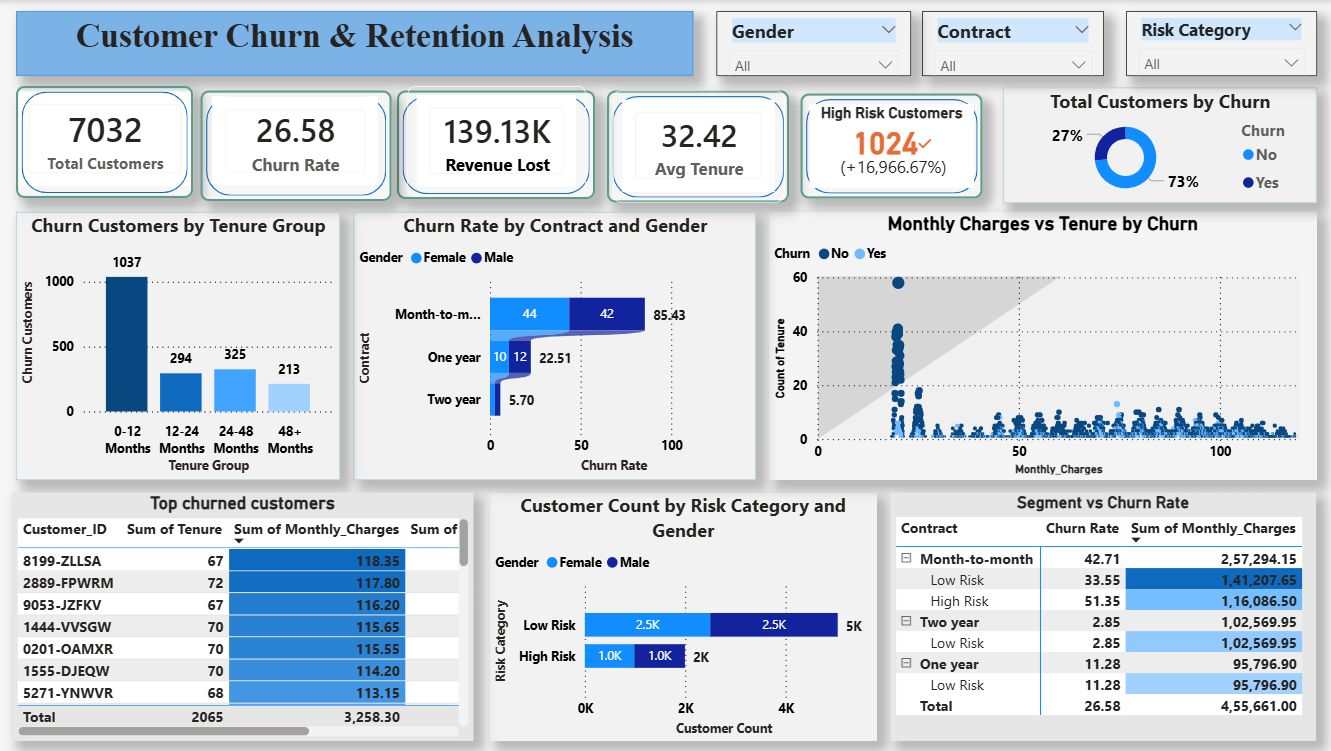

This screenshot's page, from the dashboard's own definition file:
{"tool":"powerbi","page":{"name":"Page 1","canvas":[1280,720],"ordinal":0},"visuals":[{"type":"shape","box":[20,11.7,645,61.7],"z":0},{"type":"textbox","box":[20,11.7,645,61.7],"z":1000},{"type":"cardVisual","fields":{"Data":["customers.Total Customers"]},"box":[15,82.8,180,100],"z":2000},{"type":"shape","box":[20,83.3,168.3,106.7],"z":3000},{"type":"shape","box":[383.3,86.7,188.3,103.3],"z":4000},{"type":"shape","box":[195,86.7,181.7,105],"z":5000},{"type":"shape","box":[583.3,86.7,173.3,106.7],"z":6000},{"type":"shape","box":[766.7,90,173.3,100],"z":7000},{"type":"cardVisual","fields":{"Data":["customers.Churn Rate"]},"box":[201.7,87.8,168.3,95],"z":8000},{"type":"cardVisual","fields":{"Data":["customers.Revenue Lost"]},"box":[393.3,82.8,170,105],"z":9000},{"type":"cardVisual","fields":{"Data":["customers.Avg Tenure"]},"box":[588.3,86.7,163.3,106.7],"z":10000},{"type":"slicer","fields":{"Values":["customers.Gender"]},"box":[686.7,11.7,185,61.7],"z":12000},{"type":"slicer","fields":{"Values":["customers.Contract"]},"box":[883.3,11.7,173.3,61.7],"z":13000},{"type":"donutChart","fields":{"Category":["customers.Churn"],"Y":["customers.Total Customers"]},"box":[960,85,298.3,110],"z":14000},{"type":"barChart","fields":{"Y":["customers.Churn Rate"],"Category":["customers.Contract"],"Series":["customers.Gender"]},"box":[341.7,203.3,383.3,255],"z":15000},{"type":"clusteredColumnChart","fields":{"Category":["customers.Tenure Group"],"Y":["customers.Churn Customers"]},"box":[20,203.3,308.3,255],"z":16000},{"type":"tableEx","title":"Top churned customers","fields":{"Values":["customers.Customer_ID","Sum(customers.Tenure)","Sum(customers.Monthly_Charges)","Sum(customers.Total_Charges)","customers.Contract"]},"box":[15,470,440,236.7],"z":17001},{"type":"scatterChart","title":"Monthly Charges vs Tenure by Churn","fields":{"X":["customers.Monthly_Charges"],"Series":["customers.Churn"],"Size":["Count(customers.Customer_ID)"],"Y":["CountNonNull(customers.Tenure)"]},"box":[736.7,203.3,521.7,255],"z":17002},{"type":"kpi","title":"High Risk Customers","fields":{"Indicator":["customers.High Risk Customers"],"TrendLine":["customers.Tenure"],"Goal":["customers.Churn Customers"]},"box":[775,100,156.7,80],"z":17003},{"type":"barChart","fields":{"Y":["customers.Customer Count"],"Category":["customers.Risk Category"],"Series":["customers.Gender"]},"box":[471.7,470,368.3,236.7],"z":17004},{"type":"pivotTable","title":"Segment vs Churn Rate","fields":{"Rows":["customers.Contract","customers.Risk Category"],"Values":["customers.Churn Rate","Sum(customers.Monthly_Charges)"]},"box":[853.3,470,405,236.7],"z":17005},{"type":"slicer","fields":{"Values":["customers.Risk Category"]},"box":[1076.7,11.7,181.7,61.7],"z":17006}]}

Visuals, with their boxes in screenshot pixels (x1, y1, x2, y2), scaled from the page's 1280x720 canvas onto the 1331x751 screenshot:
shape: {"left": 21, "top": 12, "right": 691, "bottom": 77}
textbox: {"left": 21, "top": 12, "right": 691, "bottom": 77}
cardVisual - customers.Total Customers: {"left": 16, "top": 86, "right": 203, "bottom": 191}
shape: {"left": 21, "top": 87, "right": 196, "bottom": 198}
shape: {"left": 399, "top": 90, "right": 594, "bottom": 198}
shape: {"left": 203, "top": 90, "right": 392, "bottom": 200}
shape: {"left": 607, "top": 90, "right": 787, "bottom": 202}
shape: {"left": 797, "top": 94, "right": 977, "bottom": 198}
cardVisual - customers.Churn Rate: {"left": 210, "top": 92, "right": 385, "bottom": 191}
cardVisual - customers.Revenue Lost: {"left": 409, "top": 86, "right": 586, "bottom": 196}
cardVisual - customers.Avg Tenure: {"left": 612, "top": 90, "right": 782, "bottom": 202}
slicer - customers.Gender: {"left": 714, "top": 12, "right": 906, "bottom": 77}
slicer - customers.Contract: {"left": 918, "top": 12, "right": 1099, "bottom": 77}
donutChart - customers.Churn x customers.Total Customers: {"left": 998, "top": 89, "right": 1308, "bottom": 203}
barChart - customers.Churn Rate x customers.Contract: {"left": 355, "top": 212, "right": 754, "bottom": 478}
clusteredColumnChart - customers.Tenure Group x customers.Churn Customers: {"left": 21, "top": 212, "right": 341, "bottom": 478}
"Top churned customers" tableEx: {"left": 16, "top": 490, "right": 473, "bottom": 737}
"Monthly Charges vs Tenure by Churn" scatterChart: {"left": 766, "top": 212, "right": 1309, "bottom": 478}
"High Risk Customers" kpi: {"left": 806, "top": 104, "right": 969, "bottom": 188}
barChart - customers.Customer Count x customers.Risk Category: {"left": 490, "top": 490, "right": 873, "bottom": 737}
"Segment vs Churn Rate" pivotTable: {"left": 887, "top": 490, "right": 1308, "bottom": 737}
slicer - customers.Risk Category: {"left": 1120, "top": 12, "right": 1309, "bottom": 77}
